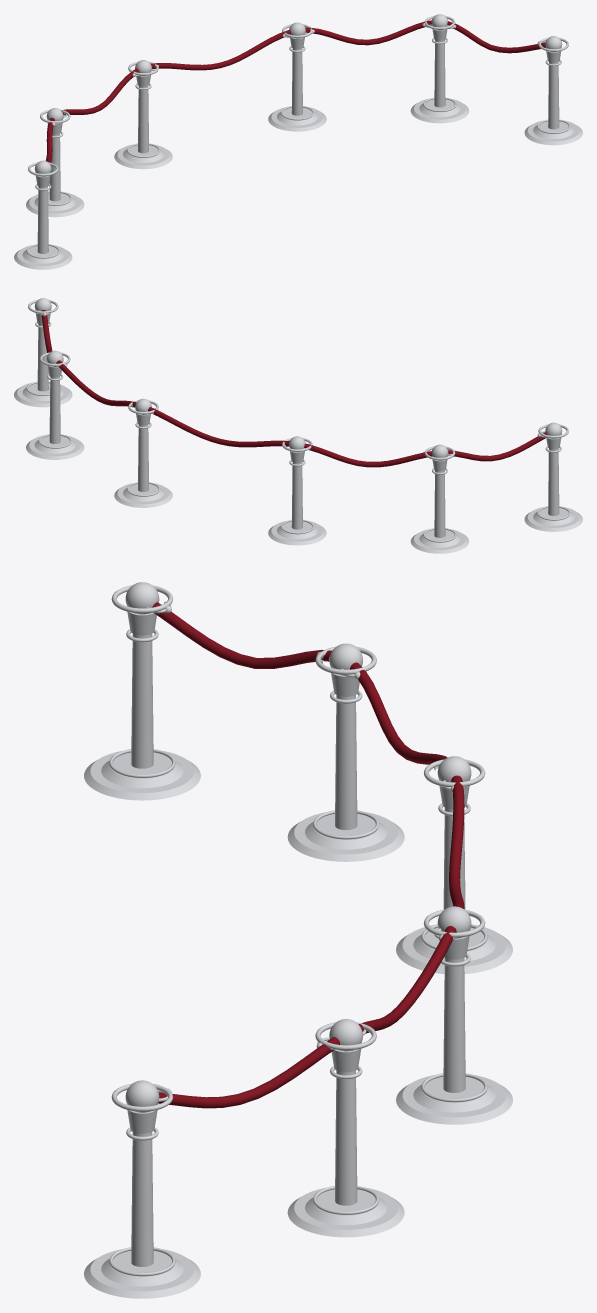
The model's file is velvet-rope-barrier.glb.
3 views of the same model, one above another, from view 1: azimuth 30°, elevation 25°; view 2: azimuth 150°, elevation 25°; view 3: azimuth 270°, elevation 25° (orthographic). The views are drawn at different scales.
Parts seen in each view (by area): view 1: post_stem (×6), base_plate (×6), velvet_rope, base_step (×6); view 2: post_stem (×6), base_plate (×6), velvet_rope, base_step (×6); view 3: post_stem (×6), base_plate (×6), base_step (×6), velvet_rope.
Part boxes in pixels (x1,y1,x2,y2): post_stem (×6): [37, 40, 559, 253]; base_plate (×6): [14, 98, 582, 269]; velvet_rope: [45, 20, 545, 162]; base_step (×6): [22, 99, 574, 263]; post_stem (×6): [37, 324, 559, 537]; base_plate (×6): [14, 382, 582, 553]; velvet_rope: [41, 310, 547, 467]; base_step (×6): [22, 383, 574, 547]; post_stem (×6): [131, 634, 465, 1266]; base_plate (×6): [84, 751, 512, 1298]; base_step (×6): [101, 752, 495, 1286]; velvet_rope: [152, 602, 464, 1108].
Size of the model in its own units: 5.98 by 0.978 by 1.98.
